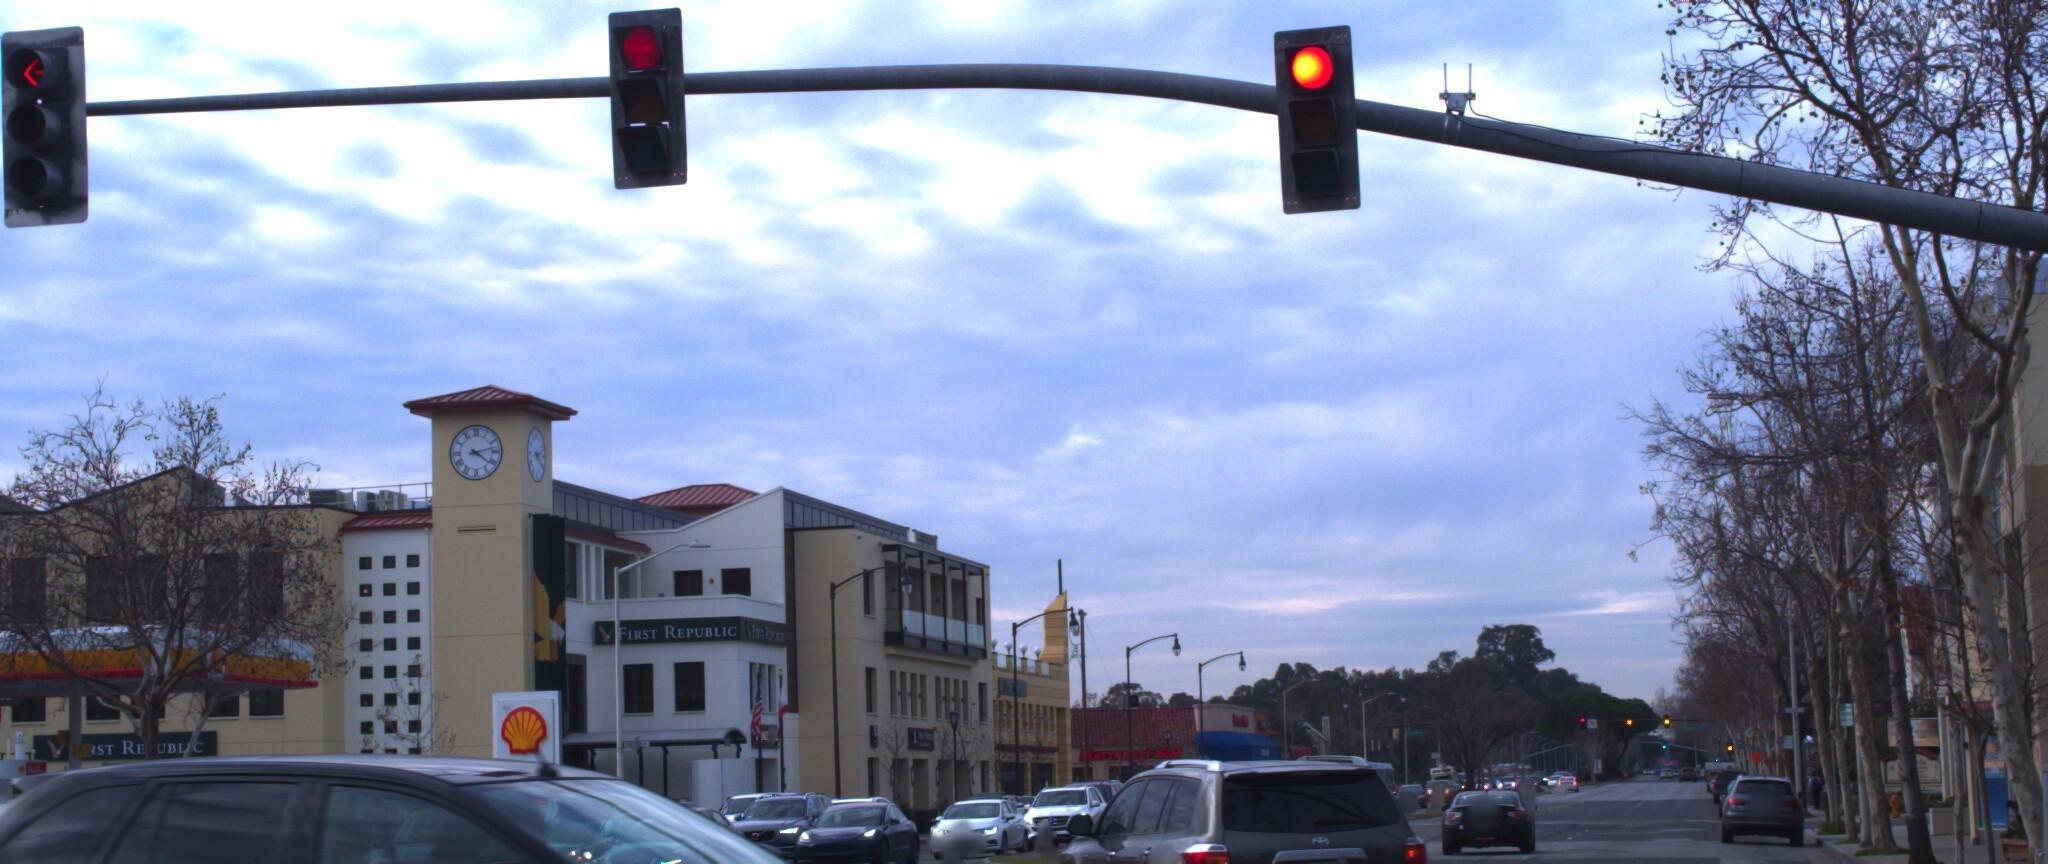car: (0, 711, 1138, 864), (1012, 743, 1455, 864), (0, 791, 199, 864), (1428, 773, 1544, 864), (772, 805, 906, 864), (916, 797, 1028, 864), (1706, 779, 1795, 860), (1002, 790, 1104, 857)
